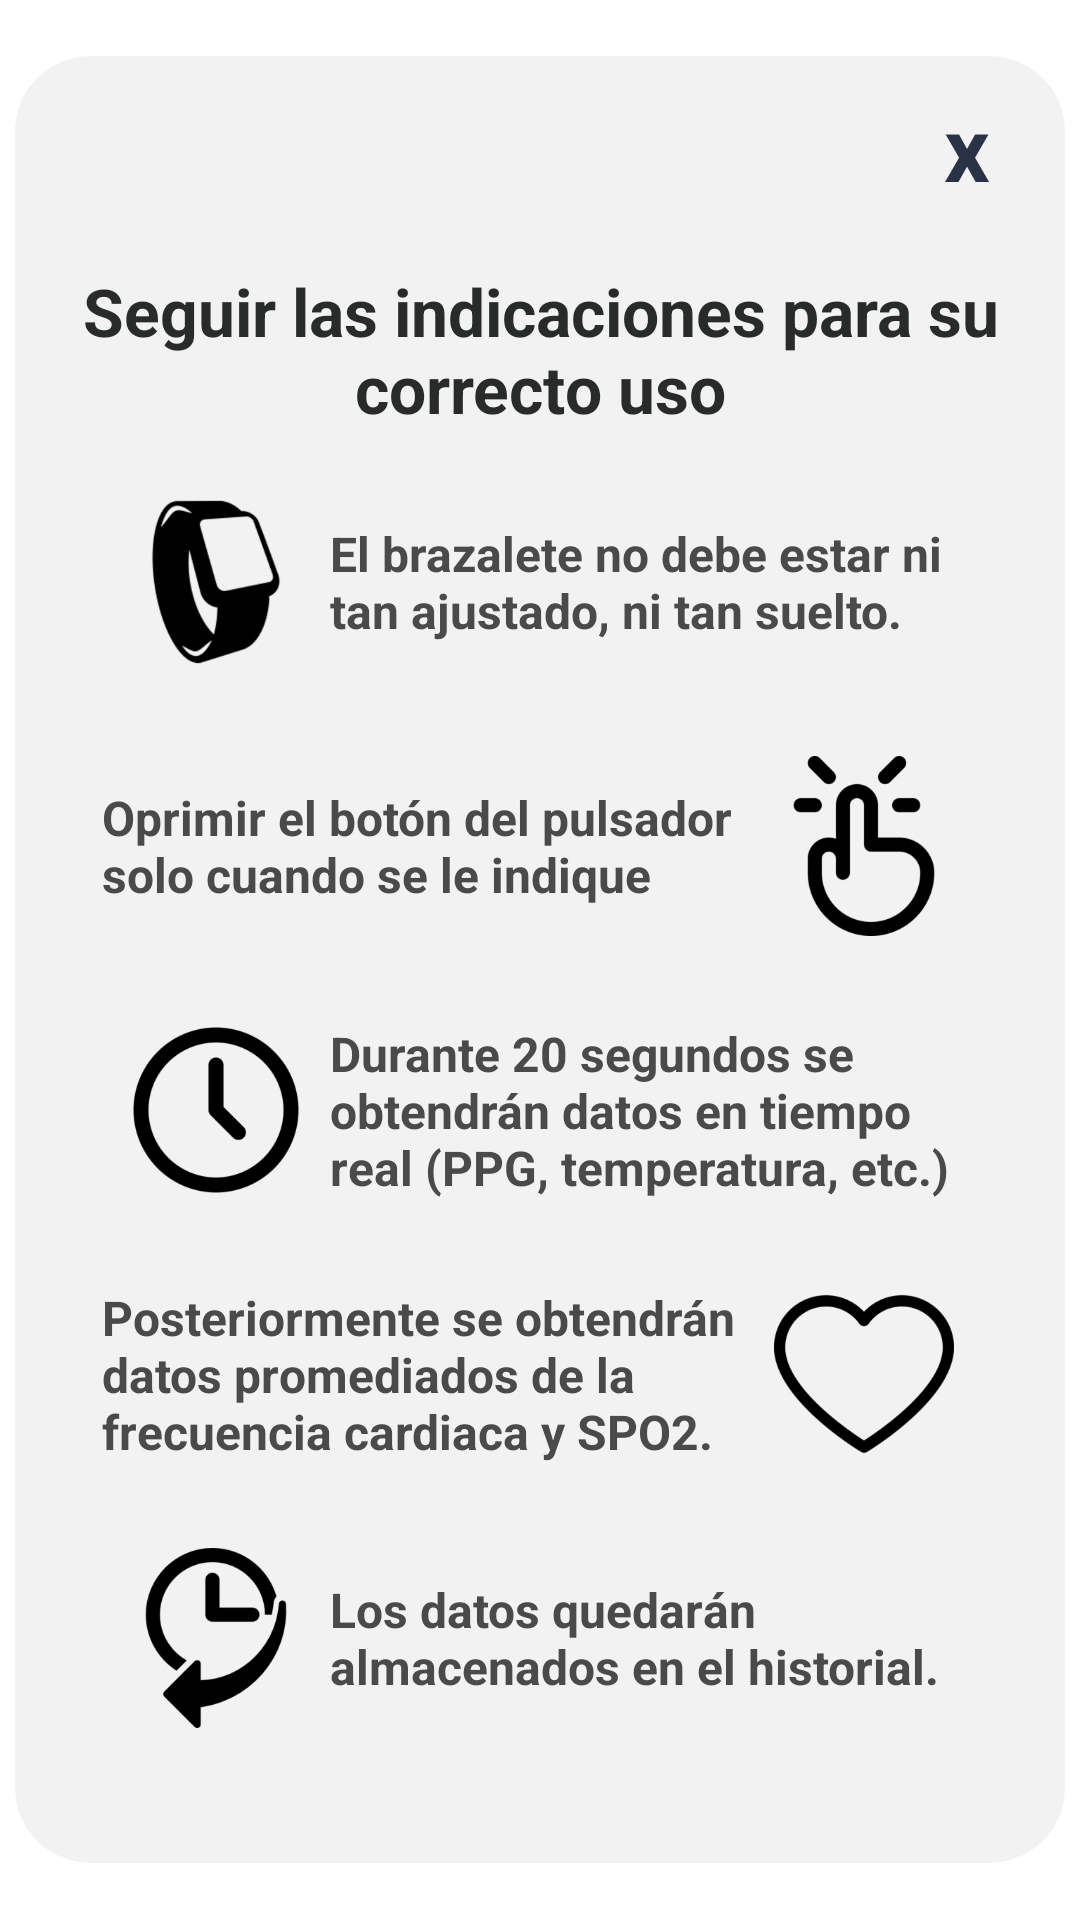

Named icons in this screenshot (1080px x 1920px) and their centers, (x=x, y=y):
brazalete ins: (x=216, y=582)
corazon ins: (x=864, y=1374)
historial ins: (x=216, y=1638)
pulsar ins: (x=864, y=846)
reloj ins: (x=216, y=1110)
